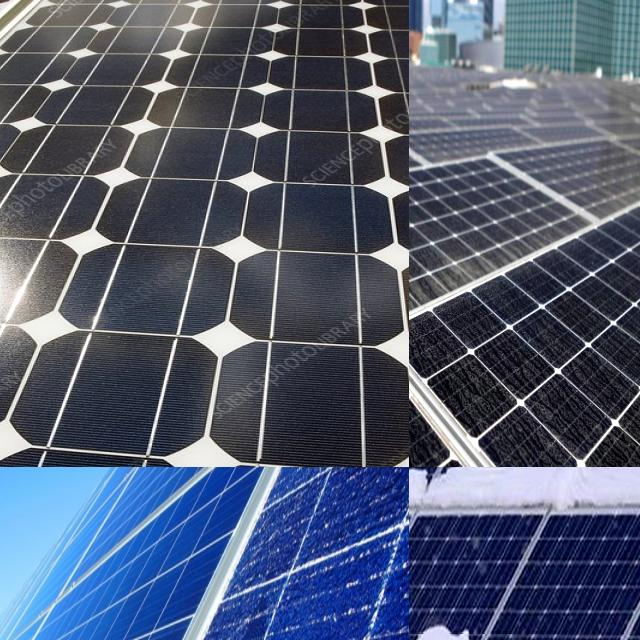crack: (0, 0, 409, 467)
dust: (453, 319, 580, 467), (409, 385, 497, 467), (409, 259, 455, 387), (409, 210, 445, 295), (409, 241, 440, 334), (584, 147, 636, 200), (466, 214, 518, 262), (409, 358, 443, 416), (409, 290, 428, 378), (409, 428, 445, 467)
panel: (432, 467, 571, 531), (541, 467, 640, 516), (409, 501, 477, 568), (409, 500, 477, 556), (409, 467, 456, 519), (409, 467, 459, 512), (588, 598, 640, 640), (409, 609, 478, 640), (409, 467, 457, 506), (409, 467, 444, 505), (409, 467, 449, 499), (409, 467, 441, 507), (409, 467, 445, 497), (409, 467, 442, 493), (409, 467, 436, 498), (409, 467, 439, 494), (409, 467, 448, 484)
